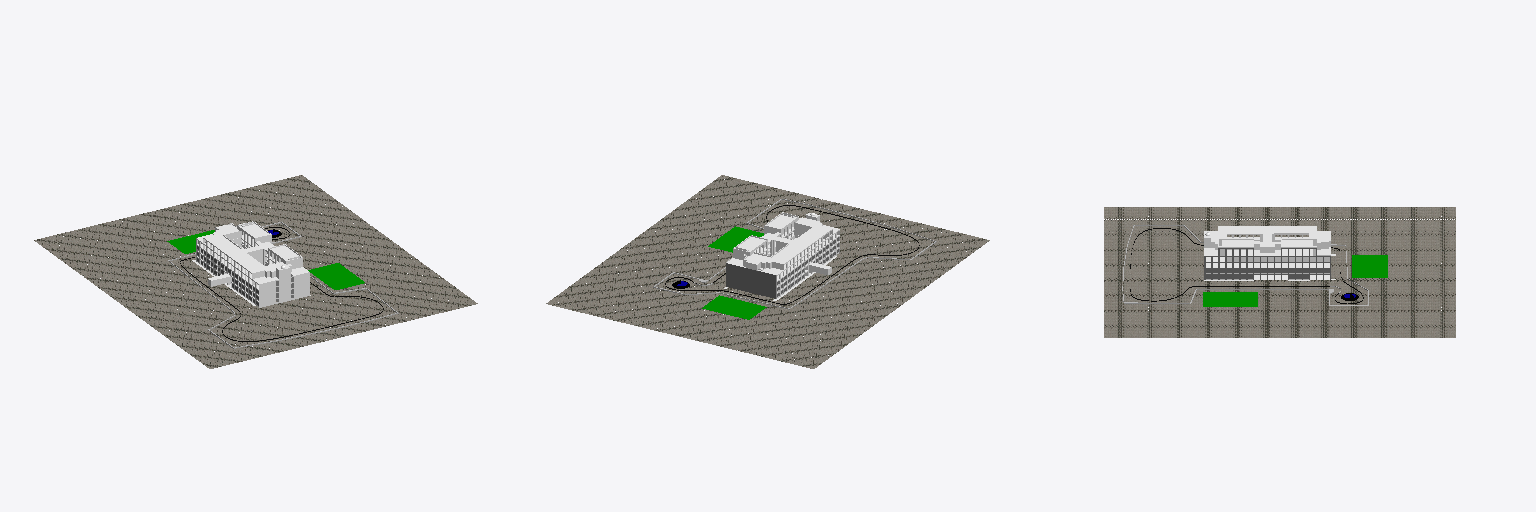
3 renders of one model, left to right at view 1: azimuth 30°, elevation 25°; view 2: azimuth 150°, elevation 25°; view 3: azimuth 270°, elevation 25°, orthographic.
Parts seen in each view (by area): view 1: ground_Plane, SketchUp_ID3, tennis_Plane.002; view 2: ground_Plane, SketchUp_ID3, tennis_Plane.002; view 3: ground_Plane, SketchUp_ID3, tennis_Plane.002.
Boxes of the visible parts, x1=… form: ground_Plane: x1=34, y1=175, x2=477, y2=368; SketchUp_ID3: x1=192, y1=221, x2=310, y2=307; tennis_Plane.002: x1=167, y1=230, x2=364, y2=289; ground_Plane: x1=546, y1=175, x2=989, y2=368; SketchUp_ID3: x1=724, y1=212, x2=839, y2=300; tennis_Plane.002: x1=702, y1=226, x2=766, y2=319; ground_Plane: x1=1104, y1=207, x2=1455, y2=337; SketchUp_ID3: x1=1204, y1=226, x2=1335, y2=280; tennis_Plane.002: x1=1203, y1=255, x2=1387, y2=306.
Bounding box in the file's own units: 173 × 23.39 × 197.
9 materials, 1 textured.